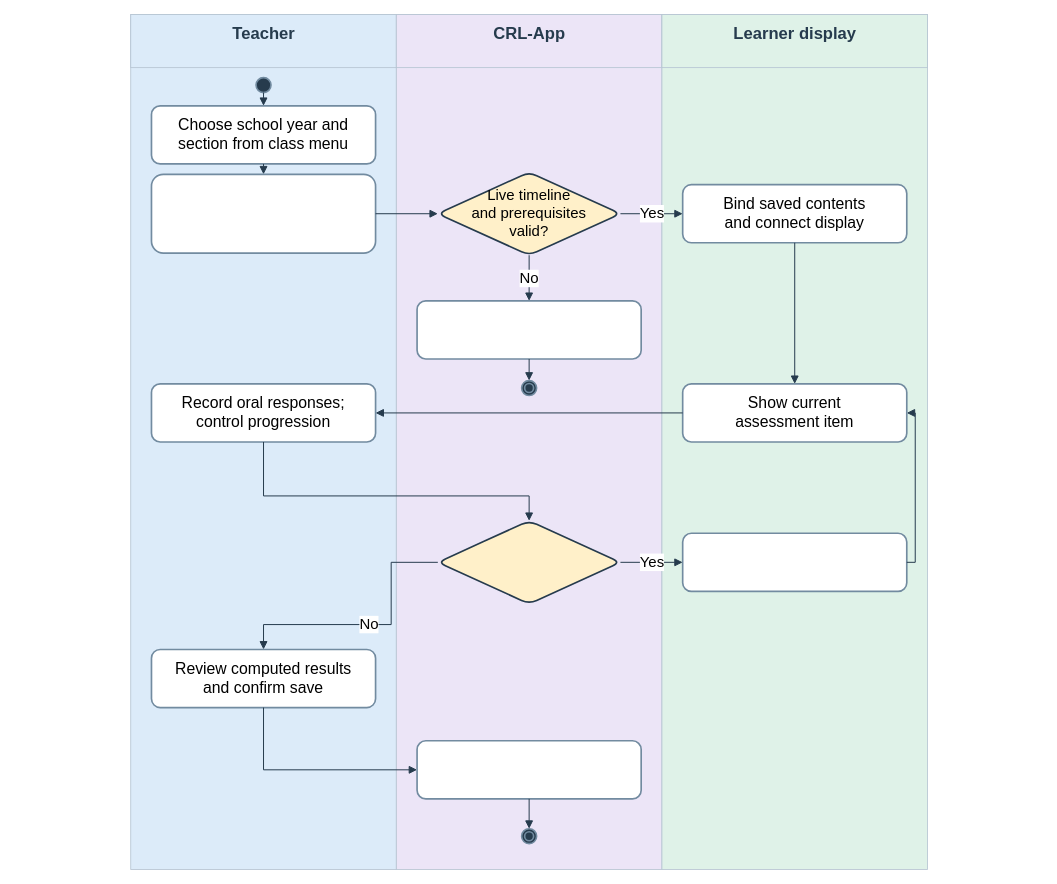
This 1057x884 diagram has some shape labels left out. Here are the shapes that lost their labels. From the top down, the centre of each, then its label:
At (263,213): "Select learner; press Start Choose eligible timeline".
At (529,329): "Explain restriction; retain existing records".
At (529,562): "Continue to next task?".
At (794,562): "Present next letters, words, story or question".
At (529,769): "Save to the owned class; queue locally if offline".
